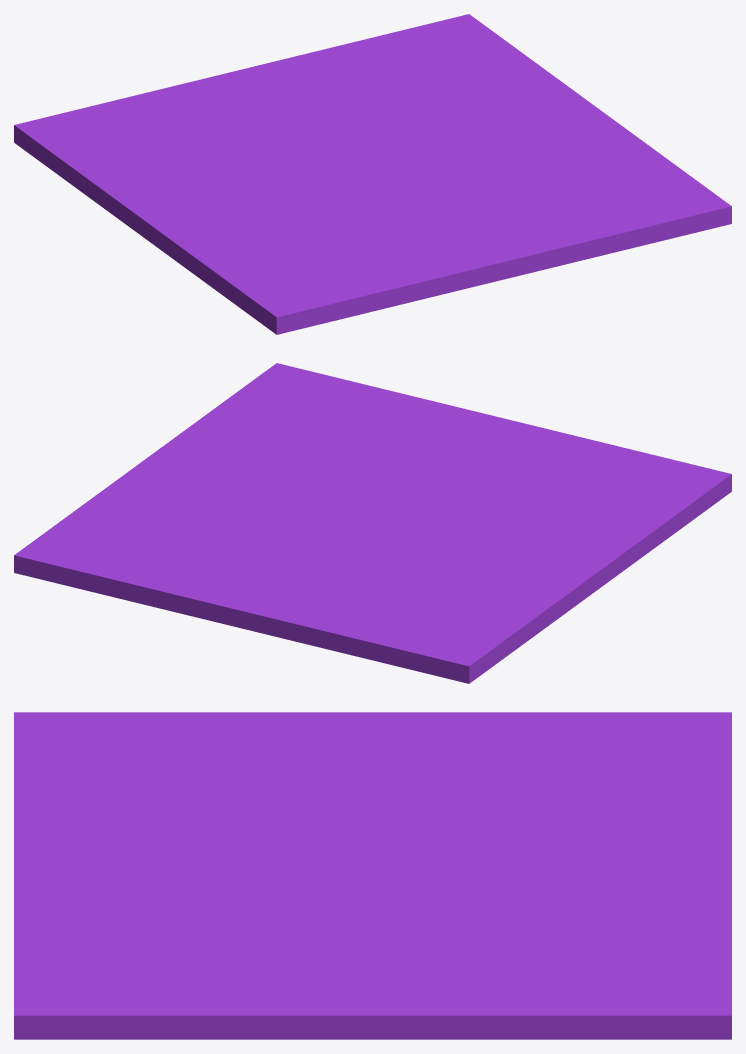
File: Platform_32_chunks.fbx
The picture shows the model from 3 angles, top to bottom: view 1: azimuth 30°, elevation 25°; view 2: azimuth 150°, elevation 25°; view 3: azimuth 270°, elevation 25°; orthographic projection. The views are drawn at different scales.
Parts seen in each view (by area): view 1: Platform_32_7, Platform_32_5, Platform_32_1, Platform_32_11, Platform_32_2, Platform_32_8, Platform_32_3, Platform_32_10, Platform_32_14, Platform_32_13, Platform_32_4, Platform_32_12 (+3 smaller); view 2: Platform_32_7, Platform_32_8, Platform_32_5, Platform_32_11, Platform_32_2, Platform_32_1, Platform_32_10, Platform_32_3, Platform_32_14, Platform_32_13, Platform_32_4, Platform_32_12 (+3 smaller); view 3: Platform_32_2, Platform_32_7, Platform_32_11, Platform_32_5, Platform_32_8, Platform_32_1, Platform_32_10, Platform_32_3, Platform_32_9, Platform_32_14, Platform_32_4, Platform_32_13 (+4 smaller).
Part boxes in pixels (<box>): Platform_32_7: <box>65,89,362,192</box>; Platform_32_5: <box>200,188,360,334</box>; Platform_32_1: <box>321,201,504,323</box>; Platform_32_11: <box>328,17,580,114</box>; Platform_32_2: <box>496,130,731,240</box>; Platform_32_8: <box>163,48,399,155</box>; Platform_32_3: <box>476,195,690,279</box>; Platform_32_10: <box>345,104,627,162</box>; Platform_32_14: <box>147,171,246,278</box>; Platform_32_13: <box>14,112,194,175</box>; Platform_32_4: <box>368,146,514,202</box>; Platform_32_12: <box>48,150,154,239</box>; Platform_32_7: <box>319,507,493,671</box>; Platform_32_8: <box>151,530,366,647</box>; Platform_32_5: <box>426,462,731,546</box>; Platform_32_11: <box>29,469,253,595</box>; Platform_32_2: <box>173,363,370,471</box>; Platform_32_1: <box>395,424,682,497</box>; Platform_32_10: <box>137,439,371,530</box>; Platform_32_3: <box>318,373,528,458</box>; Platform_32_14: <box>474,527,658,585</box>; Platform_32_13: <box>418,577,509,683</box>; Platform_32_4: <box>263,455,451,502</box>; Platform_32_12: <box>503,567,604,657</box>; Platform_32_2: <box>14,905,328,1039</box>; Platform_32_7: <box>317,746,731,861</box>; Platform_32_11: <box>403,912,731,1010</box>; Platform_32_5: <box>14,712,343,842</box>; Platform_32_8: <box>421,811,731,921</box>; Platform_32_1: <box>14,745,271,890</box>; Platform_32_10: <box>298,856,498,1039</box>; Platform_32_3: <box>14,847,206,987</box>; Platform_32_9: <box>381,1005,731,1039</box>; Platform_32_14: <box>215,712,478,779</box>; Platform_32_4: <box>201,836,357,947</box>; Platform_32_13: <box>478,712,731,770</box>.
Bounding box in the file's own units: 810 × 29.87 × 810.
